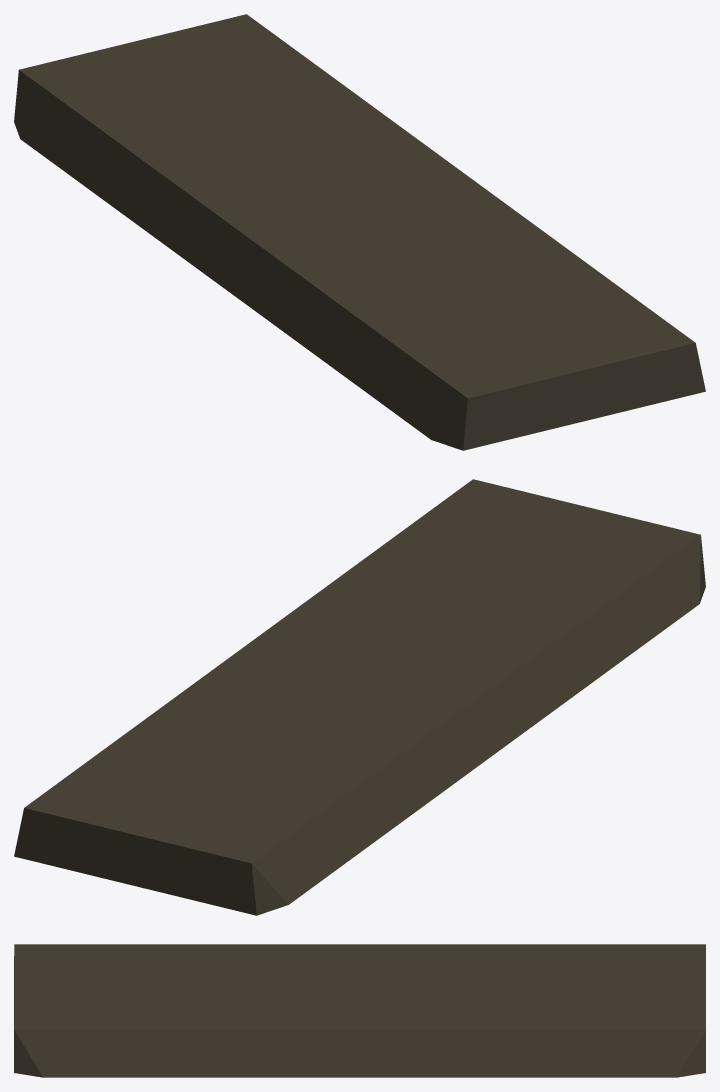
The model's file is TPL_EVT_BRIDGEFUNCTIONAL_01.OBJ.
3 views of the same model, one above another, from view 1: azimuth 30°, elevation 25°; view 2: azimuth 150°, elevation 25°; view 3: azimuth 270°, elevation 25° (orthographic). The views are drawn at different scales.
Parts seen in each view (by area): view 1: TPL_EVT_BRIDGEFUNCTIONAL_01; view 2: TPL_EVT_BRIDGEFUNCTIONAL_01; view 3: TPL_EVT_BRIDGEFUNCTIONAL_01.
Boxes of the visible parts, left/top/right/bottom form: TPL_EVT_BRIDGEFUNCTIONAL_01: left=14, top=14, right=705, bottom=450; TPL_EVT_BRIDGEFUNCTIONAL_01: left=14, top=479, right=705, bottom=915; TPL_EVT_BRIDGEFUNCTIONAL_01: left=14, top=944, right=705, bottom=1077.
Bounding box in the file's own units: 8 × 1.46 × 23.21.
